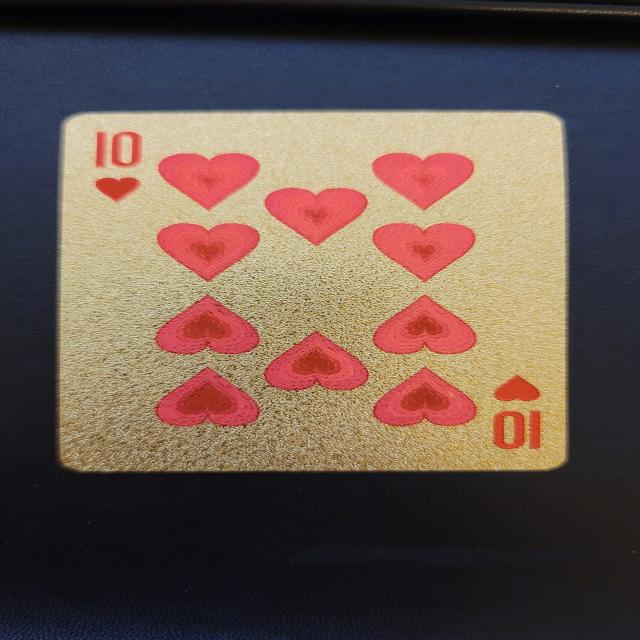10 of hearts: (53, 110, 573, 475)
